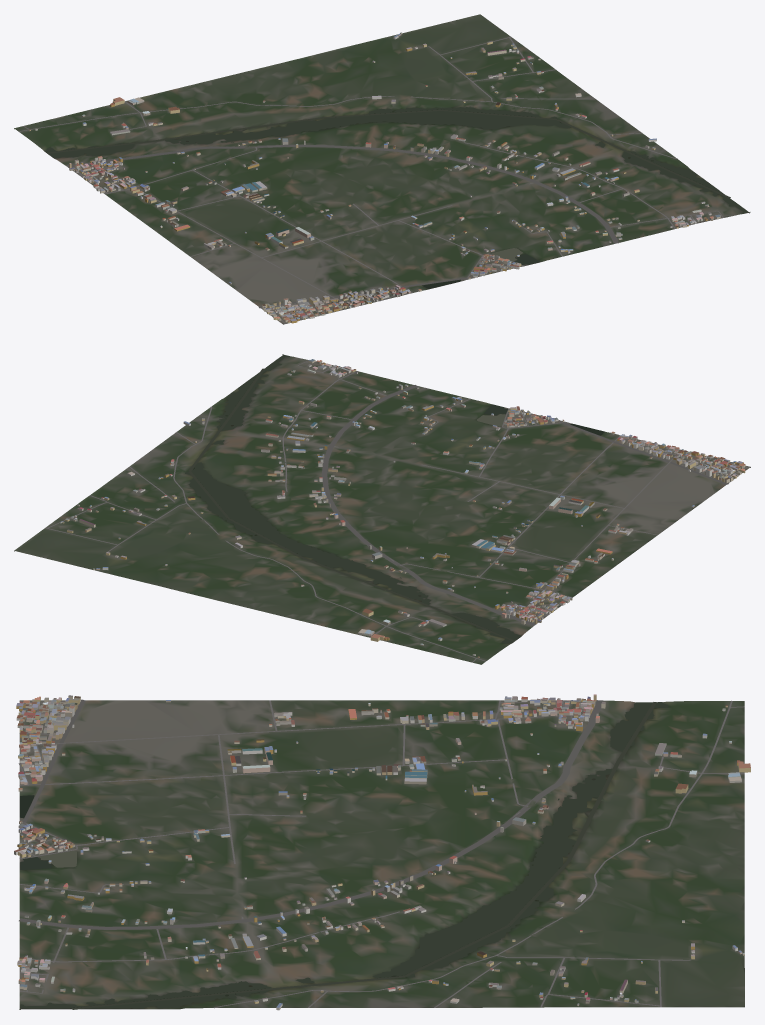
The picture shows the model from 3 angles, top to bottom: view 1: azimuth 30°, elevation 25°; view 2: azimuth 150°, elevation 25°; view 3: azimuth 270°, elevation 25°; orthographic projection. The views are drawn at different scales.
Visible parts, largest first — view 1: ground, buildings, water, roads; view 2: ground, buildings, water, roads; view 3: ground, buildings, water, roads.
Boxes of the visible parts, box(x1,y1,x2,y2) form: ground: box(14, 14, 749, 324); buildings: box(29, 32, 720, 323); water: box(45, 107, 750, 288); roads: box(18, 37, 723, 323); ground: box(14, 355, 750, 664); buildings: box(60, 359, 745, 657); water: box(185, 354, 604, 643); roads: box(45, 360, 748, 662); ground: box(19, 700, 744, 1009); buildings: box(14, 694, 750, 1010); water: box(19, 702, 668, 1009); roads: box(18, 699, 744, 1008).
Bounding box in the file's own units: 1420 × 24.82 × 1425.
